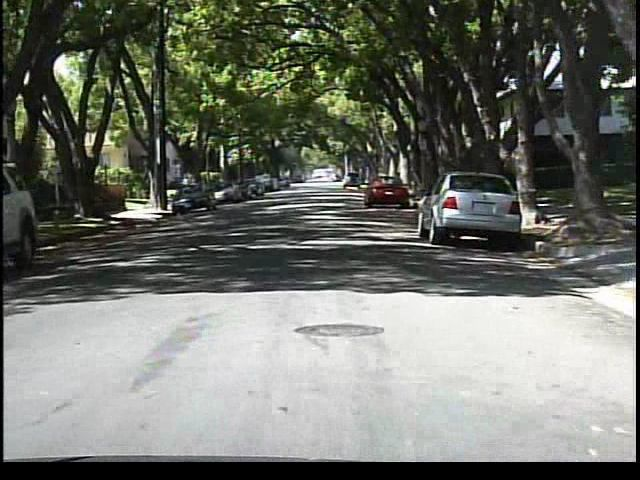person: (178, 173, 196, 206)
